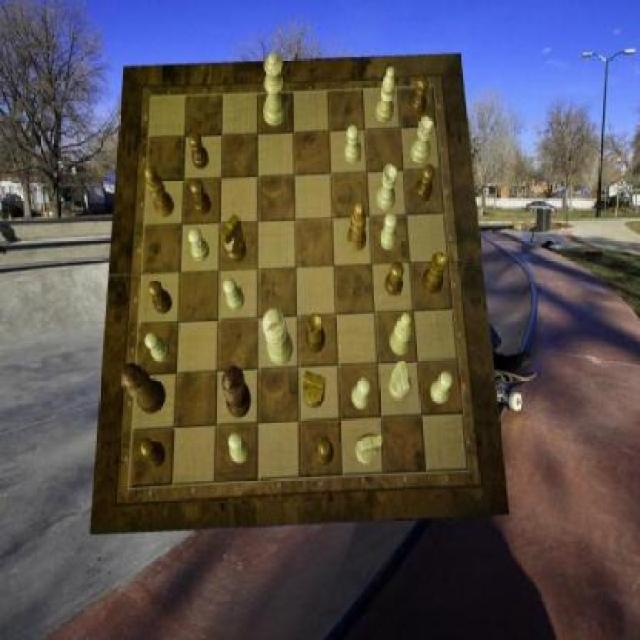bishop: (144, 166, 174, 219), (348, 202, 368, 252)
black-bishop: (222, 364, 250, 418)
black-king: (222, 214, 246, 261), (305, 371, 327, 408)
black-knight: (189, 180, 212, 216), (148, 279, 172, 313), (140, 438, 166, 468), (189, 132, 209, 170), (416, 165, 436, 202), (384, 262, 404, 296), (411, 77, 428, 117), (316, 437, 334, 466)
black-pawn: (120, 361, 166, 414)
black-queen: (423, 251, 448, 293), (306, 314, 326, 354)
black-rook: (377, 66, 397, 124), (391, 314, 414, 356)
white-bishop: (263, 308, 294, 365)
white-king: (388, 360, 410, 400), (356, 434, 382, 466)
white-knight: (431, 370, 454, 404), (146, 334, 171, 363), (380, 212, 398, 250), (352, 377, 372, 411), (224, 278, 244, 312), (189, 229, 209, 262), (344, 126, 360, 165), (229, 434, 249, 464)
white-pawn: (264, 52, 288, 127)
white-queen: (411, 117, 434, 165), (375, 165, 398, 212)
